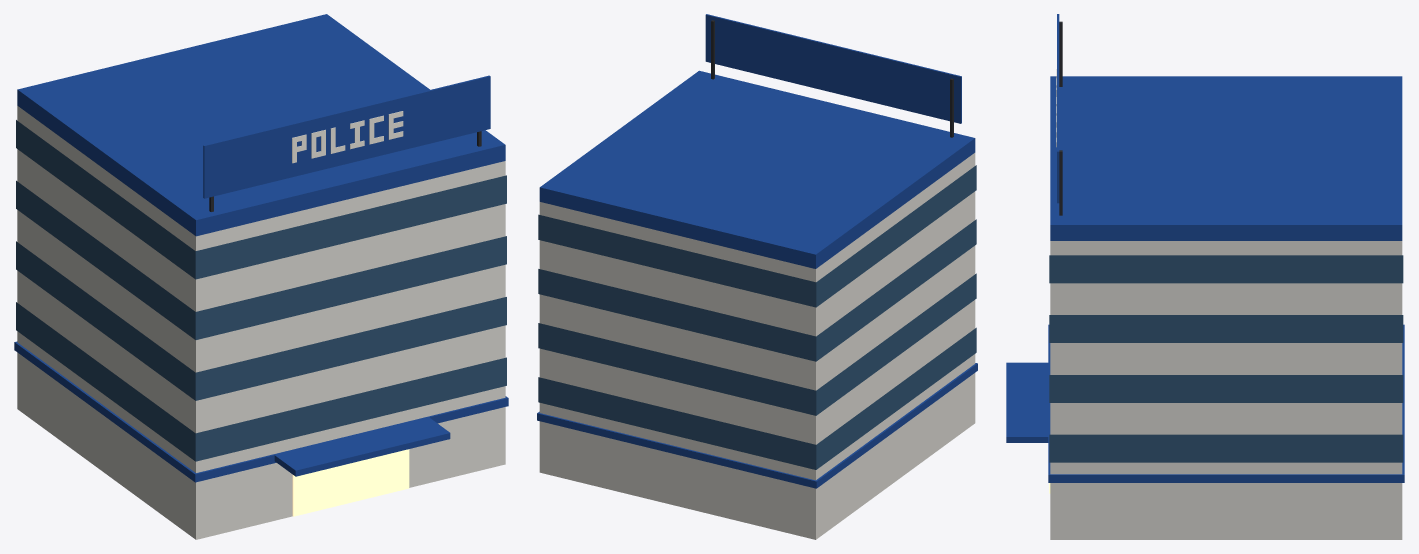
Rendered from bld_dt_police.glb.
3 views of the same model, side by side, from view 1: azimuth 30°, elevation 25°; view 2: azimuth 150°, elevation 25°; view 3: azimuth 270°, elevation 25° (orthographic). The views are drawn at different scales.
Visible parts, largest first — view 1: bld_dt_police; view 2: bld_dt_police; view 3: bld_dt_police.
Boxes of the visible parts, box(x1,y1,x2,y2) form: bld_dt_police: box(14, 14, 508, 539); bld_dt_police: box(537, 14, 977, 539); bld_dt_police: box(1006, 14, 1404, 539).
Size of what is drawn, in the model's own units: 16.2 by 19.2 by 18.1.
